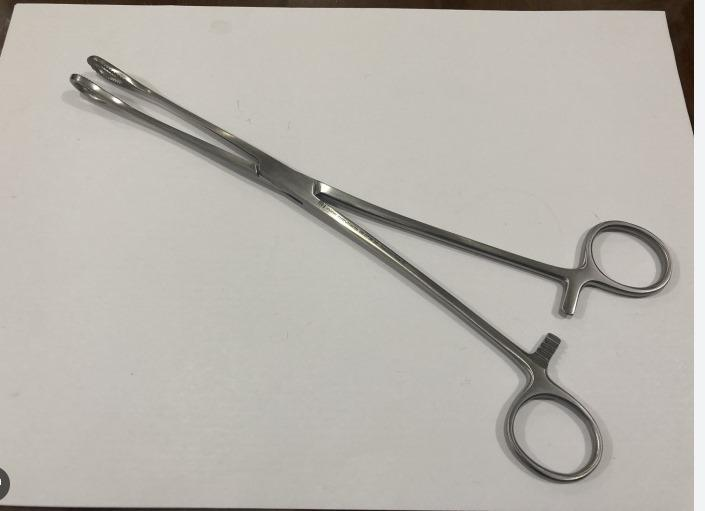Sponge Holding Forceps: (65, 44, 677, 488)
